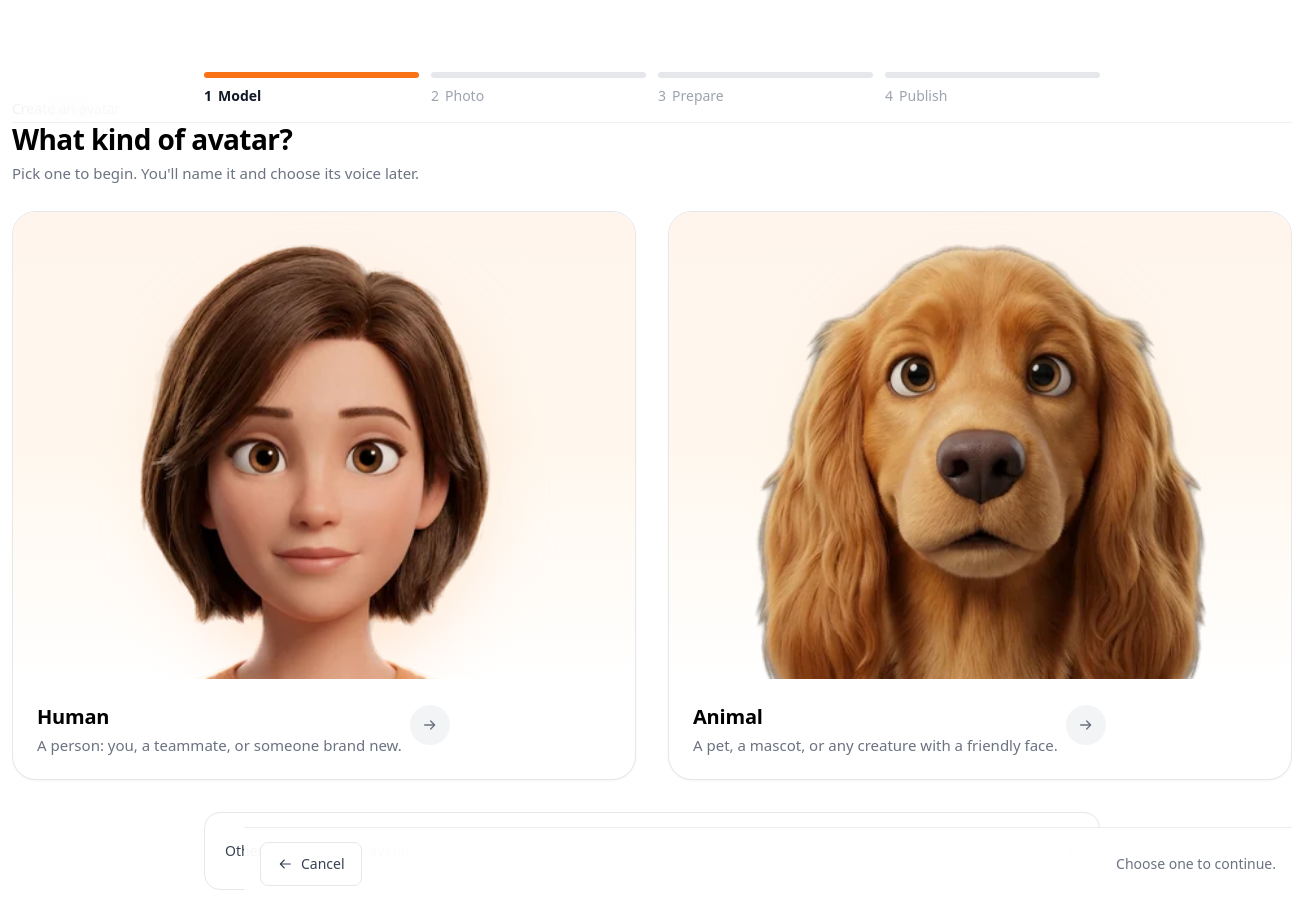
it: step 1: the model › Back on the photo step returns to the models
This screenshot has width=1304, height=900.
expect the heading "What kind of avatar?" is shown: met, box left=12, top=120, right=292, bottom=158
Step 1. Click the button "Human A person: you, a teammate, or someone brand new." → (324, 496), box left=12, top=211, right=636, bottom=780
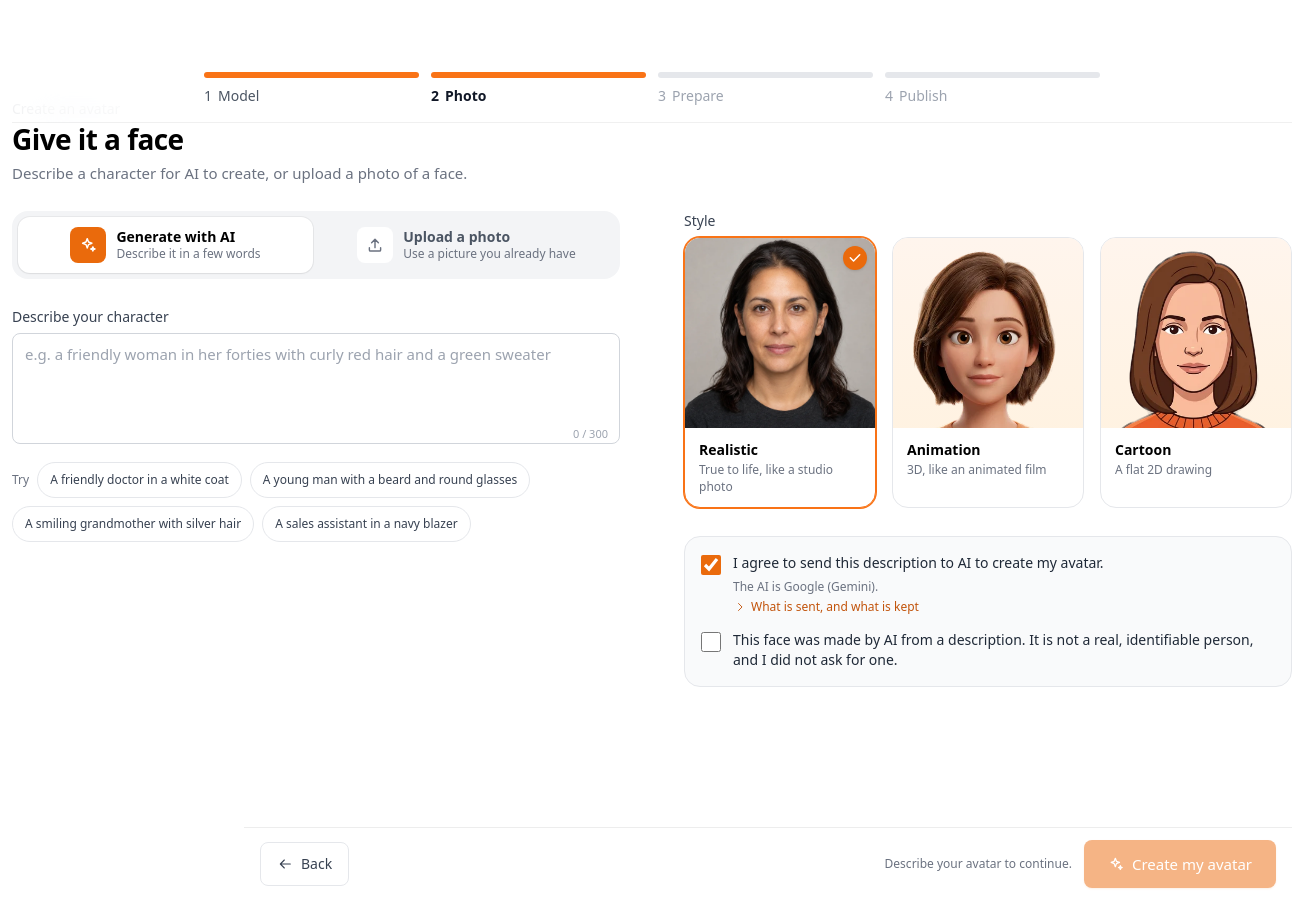
expect the heading "Give it a face" is shown: met, box left=12, top=120, right=184, bottom=158
Step 2. Click the button "Back" → (305, 864), box left=260, top=842, right=349, bottom=886
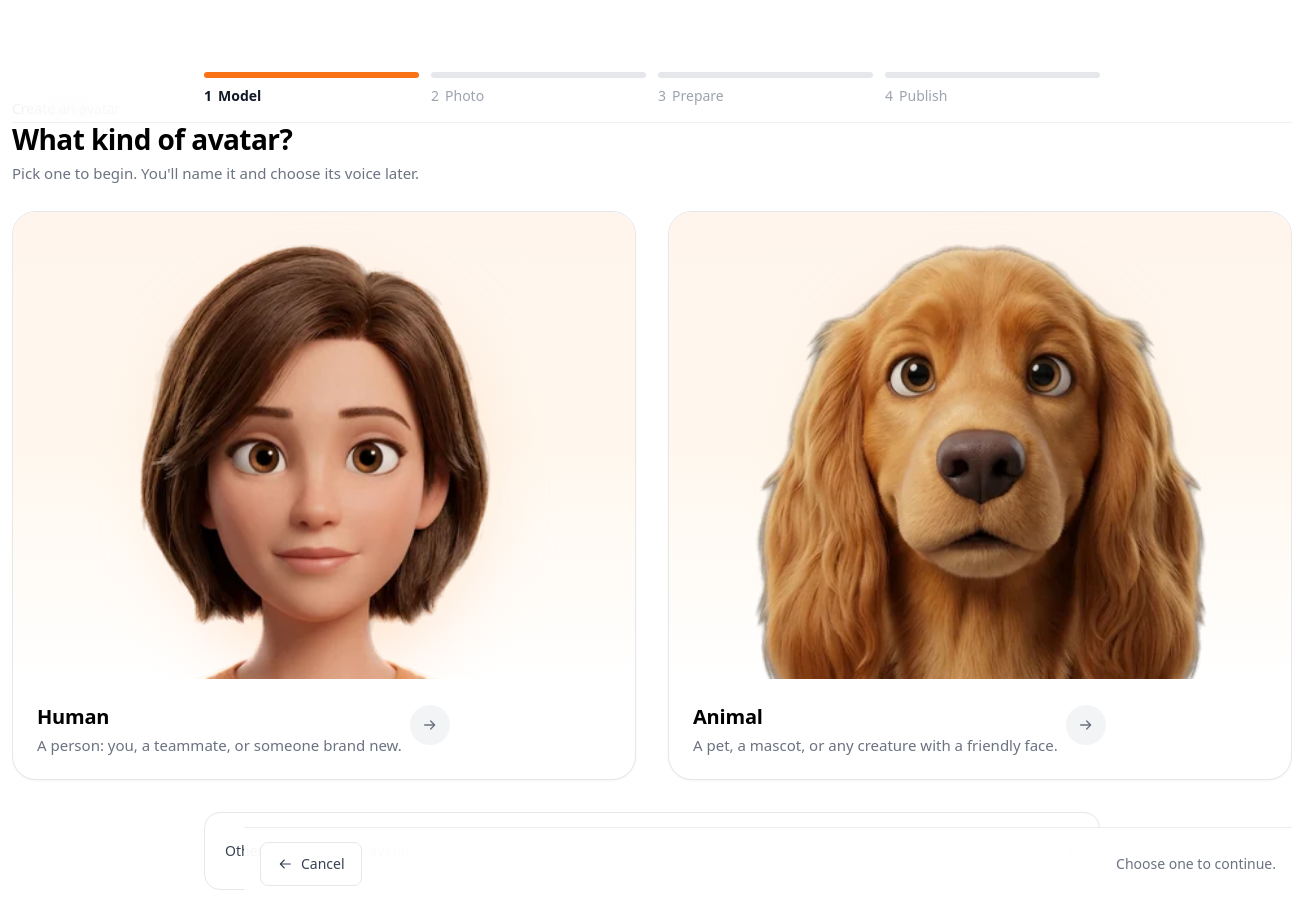
expect the heading "What kind of avatar?" is shown: met, box left=12, top=120, right=292, bottom=158
